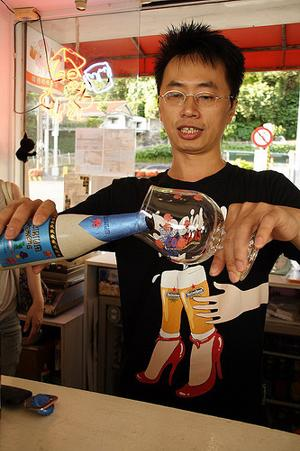person: (2, 25, 300, 426)
